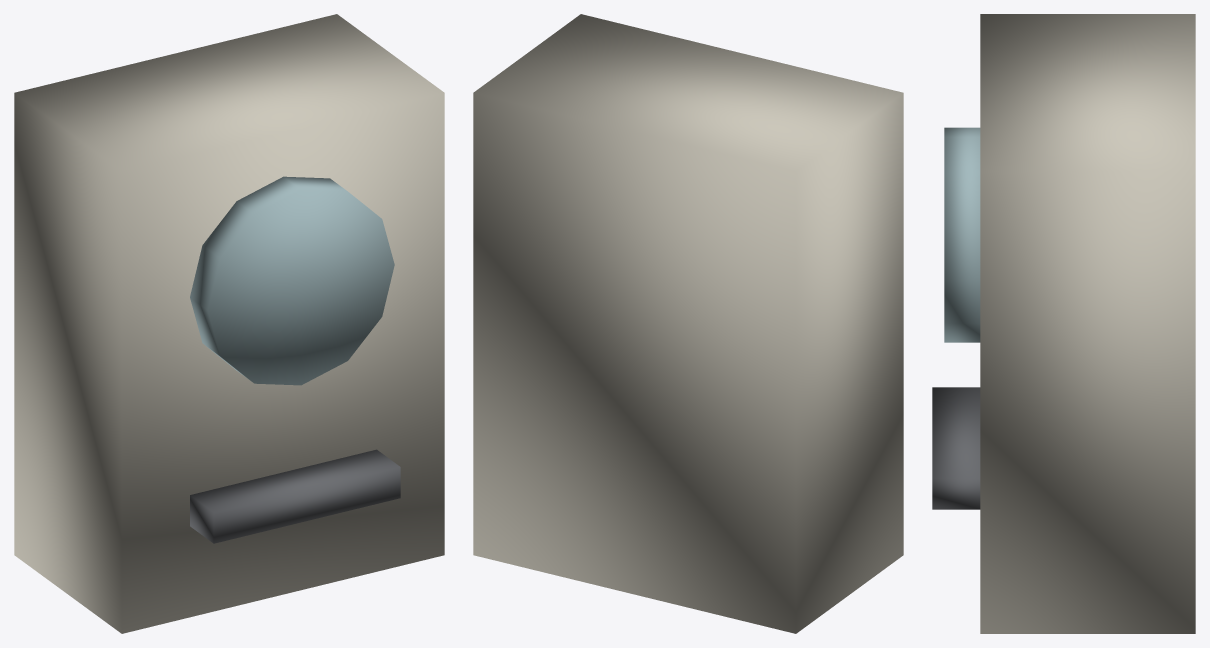
The model's file is employee_punch_clock__deep.glb.
3 renders of one model, left to right at view 1: azimuth 30°, elevation 25°; view 2: azimuth 150°, elevation 25°; view 3: azimuth 270°, elevation 25°, orthographic.
Visible parts, largest first — view 1: world; view 2: world; view 3: world.
Boxes of the visible parts, box(x1,y1,x2,y2) form: world: box(14, 14, 444, 633); world: box(473, 14, 903, 633); world: box(932, 14, 1195, 633).
Size of the model in its own units: 0.38 by 0.52 by 0.2684.
